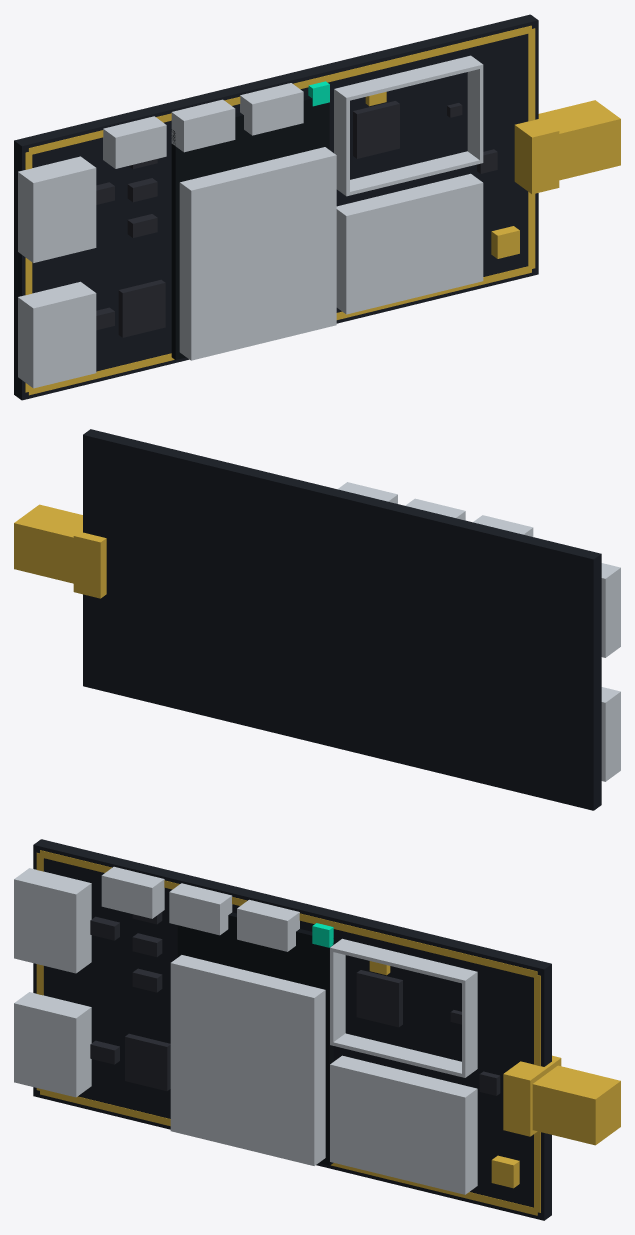
File: lexicon_dual_rf_dongle_pcba.obj
The picture shows the model from 3 angles, top to bottom: view 1: azimuth 30°, elevation 25°; view 2: azimuth 150°, elevation 25°; view 3: azimuth 330°, elevation 25°; orthographic projection.
Visible parts, largest first — view 1: PCB_Substrate_6L_FR4_MatteBlack, U1_ESP32_S3_Shield_Can, SH2_RF1_Shield_Can_Closed, J1_USBC_Native_JTAG, J2_USBC_UART_Bridge, U1_ESP32_S3_WROOM_1_Body, J3_SMA_Threaded_Barrel, J3_SMA_Edge_Base, SW2_BOOT_Button, ENIG_Perimeter_Ring_Top, SW1_RST_Button, SW3_KEY_Button (+11 smaller); view 2: PCB_Substrate_6L_FR4_MatteBlack, J3_SMA_Threaded_Barrel, J3_SMA_Edge_Base, J1_USBC_Native_JTAG, J2_USBC_UART_Bridge, SW1_RST_Button, SW2_BOOT_Button, SW3_KEY_Button; view 3: PCB_Substrate_6L_FR4_MatteBlack, U1_ESP32_S3_Shield_Can, SH2_RF1_Shield_Can_Closed, J1_USBC_Native_JTAG, J2_USBC_UART_Bridge, U1_ESP32_S3_WROOM_1_Body, J3_SMA_Threaded_Barrel, SW1_RST_Button, ENIG_Perimeter_Ring_Top, SW2_BOOT_Button, SW3_KEY_Button, J3_SMA_Edge_Base (+13 smaller).
Boxes of the visible parts, x1,y1,x2,y2 form: PCB_Substrate_6L_FR4_MatteBlack: (14,14,538,400); U1_ESP32_S3_Shield_Can: (179,147,336,360); SH2_RF1_Shield_Can_Closed: (336,173,483,314); J1_USBC_Native_JTAG: (18,156,96,262); J2_USBC_UART_Bridge: (18,281,96,388); U1_ESP32_S3_WROOM_1_Body: (171,95,329,359); J3_SMA_Threaded_Barrel: (538,100,620,180); J3_SMA_Edge_Base: (514,116,559,194); SW2_BOOT_Button: (171,99,235,152); ENIG_Perimeter_Ring_Top: (28,25,531,155); SW1_RST_Button: (103,116,166,168); SW3_KEY_Button: (240,83,303,135); PCB_Substrate_6L_FR4_MatteBlack: (83,429,601,810); J3_SMA_Threaded_Barrel: (14,504,82,583); J3_SMA_Edge_Base: (73,529,106,598); J1_USBC_Native_JTAG: (601,563,620,657); J2_USBC_UART_Bridge: (601,687,620,781); SW1_RST_Button: (473,515,533,536); SW2_BOOT_Button: (405,498,465,520); SW3_KEY_Button: (338,482,397,503); PCB_Substrate_6L_FR4_MatteBlack: (33,839,551,1220); U1_ESP32_S3_Shield_Can: (170,955,325,1165); SH2_RF1_Shield_Can_Closed: (330,1055,477,1194); J1_USBC_Native_JTAG: (14,868,91,973); J2_USBC_UART_Bridge: (14,992,91,1097); U1_ESP32_S3_WROOM_1_Body: (177,912,333,1165); J3_SMA_Threaded_Barrel: (532,1065,620,1145); SW1_RST_Button: (101,866,164,918); ENIG_Perimeter_Ring_Top: (40,850,537,978); SW2_BOOT_Button: (169,883,232,935); SW3_KEY_Button: (237,899,299,951); J3_SMA_Edge_Base: (503,1055,561,1136).
Bounding box in the file's own units: 68.72 × 28.4 × 6.35.
